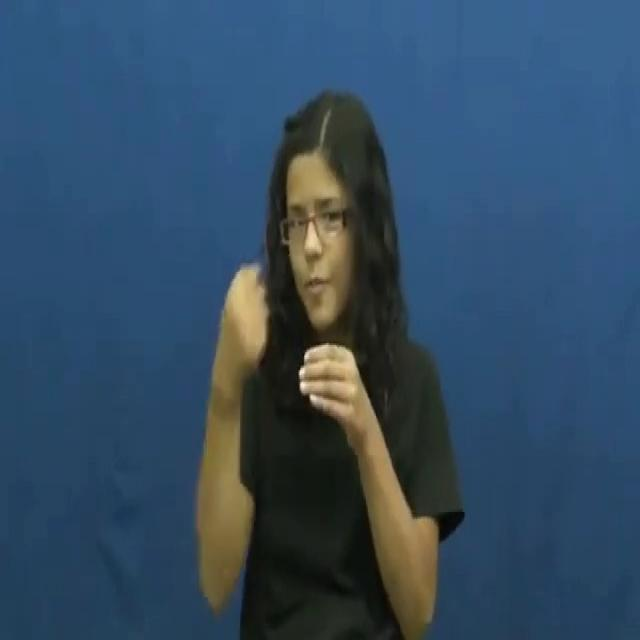yoghurt: (209, 253, 375, 458)
